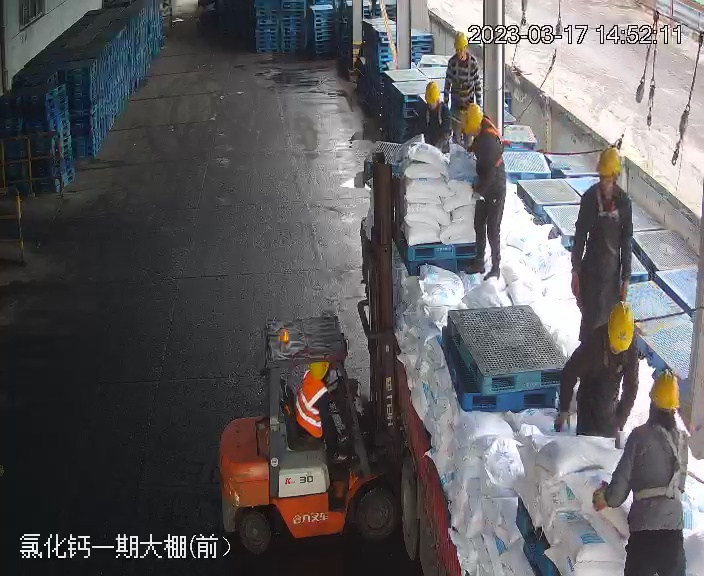belt: (628, 424, 696, 501), (470, 123, 510, 163), (590, 181, 623, 218), (451, 52, 479, 92), (421, 99, 450, 131)
head: (620, 370, 686, 456), (572, 144, 635, 216), (580, 302, 642, 360), (456, 101, 504, 154), (300, 358, 342, 408), (419, 80, 452, 135), (444, 31, 480, 70)
helmet: (604, 302, 637, 352), (647, 370, 680, 410), (593, 144, 625, 176), (457, 102, 484, 134), (306, 360, 330, 385), (422, 79, 442, 105), (452, 29, 470, 55)
people: (593, 369, 691, 574), (568, 143, 638, 380), (555, 300, 641, 446), (452, 106, 508, 282), (293, 358, 355, 464), (442, 23, 483, 147)
truck: (364, 70, 700, 576)
